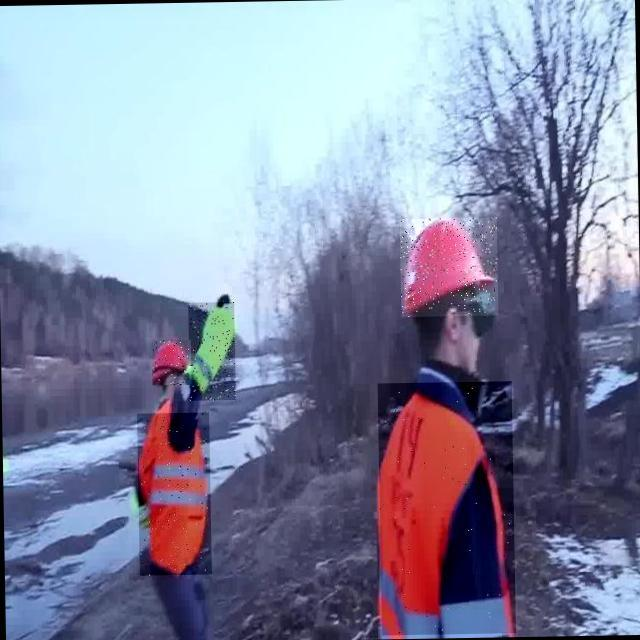Helmet: (399, 217, 498, 317), (152, 339, 193, 385)
Person: (335, 187, 555, 640), (100, 272, 254, 640)
Safety Vest: (378, 381, 516, 636), (137, 413, 212, 576), (188, 302, 236, 401)
